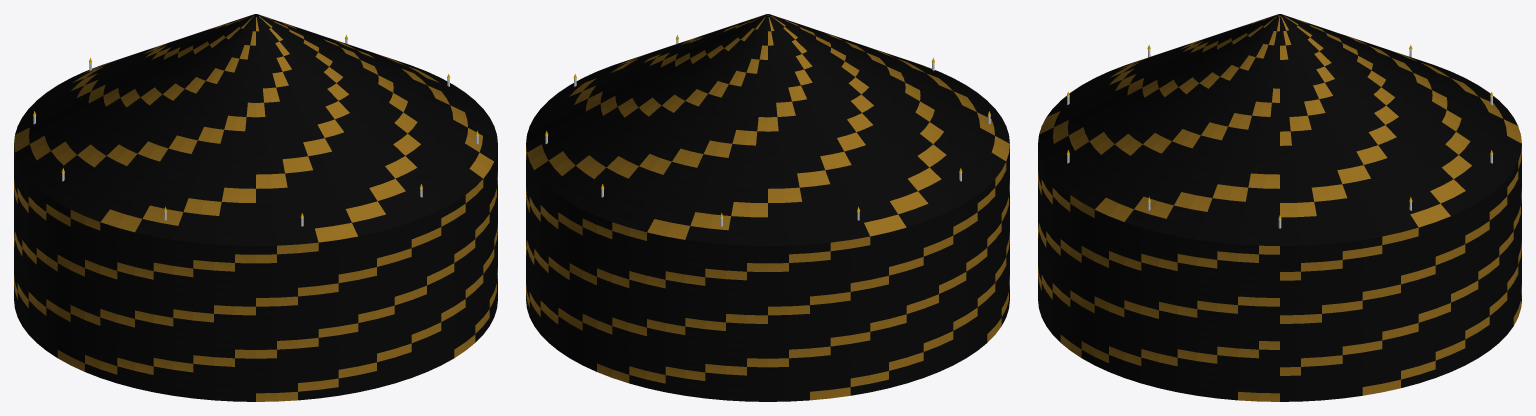
Rendered from tent-details.glb.
3 views of the same model, side by side, from view 1: azimuth 30°, elevation 25°; view 2: azimuth 150°, elevation 25°; view 3: azimuth 270°, elevation 25° (orthographic).
Parts seen in each view (by area): view 1: Zebra striped tent lining; view 2: Zebra striped tent lining; view 3: Zebra striped tent lining.
Boxes of the visible parts, x1,y1,x2,y2 form: Zebra striped tent lining: (14,14,497,401); Zebra striped tent lining: (526,14,1009,401); Zebra striped tent lining: (1038,14,1521,401).
Size of the model in its own units: 47.84 by 31 by 47.84.
